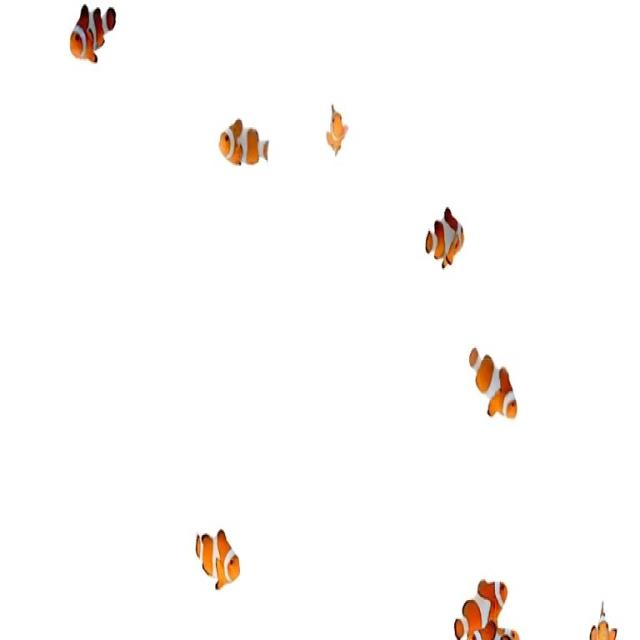fish: (465, 335, 518, 427), (452, 561, 510, 640), (192, 523, 244, 591), (67, 0, 117, 67), (422, 198, 468, 267), (218, 112, 270, 168), (324, 101, 350, 161)
